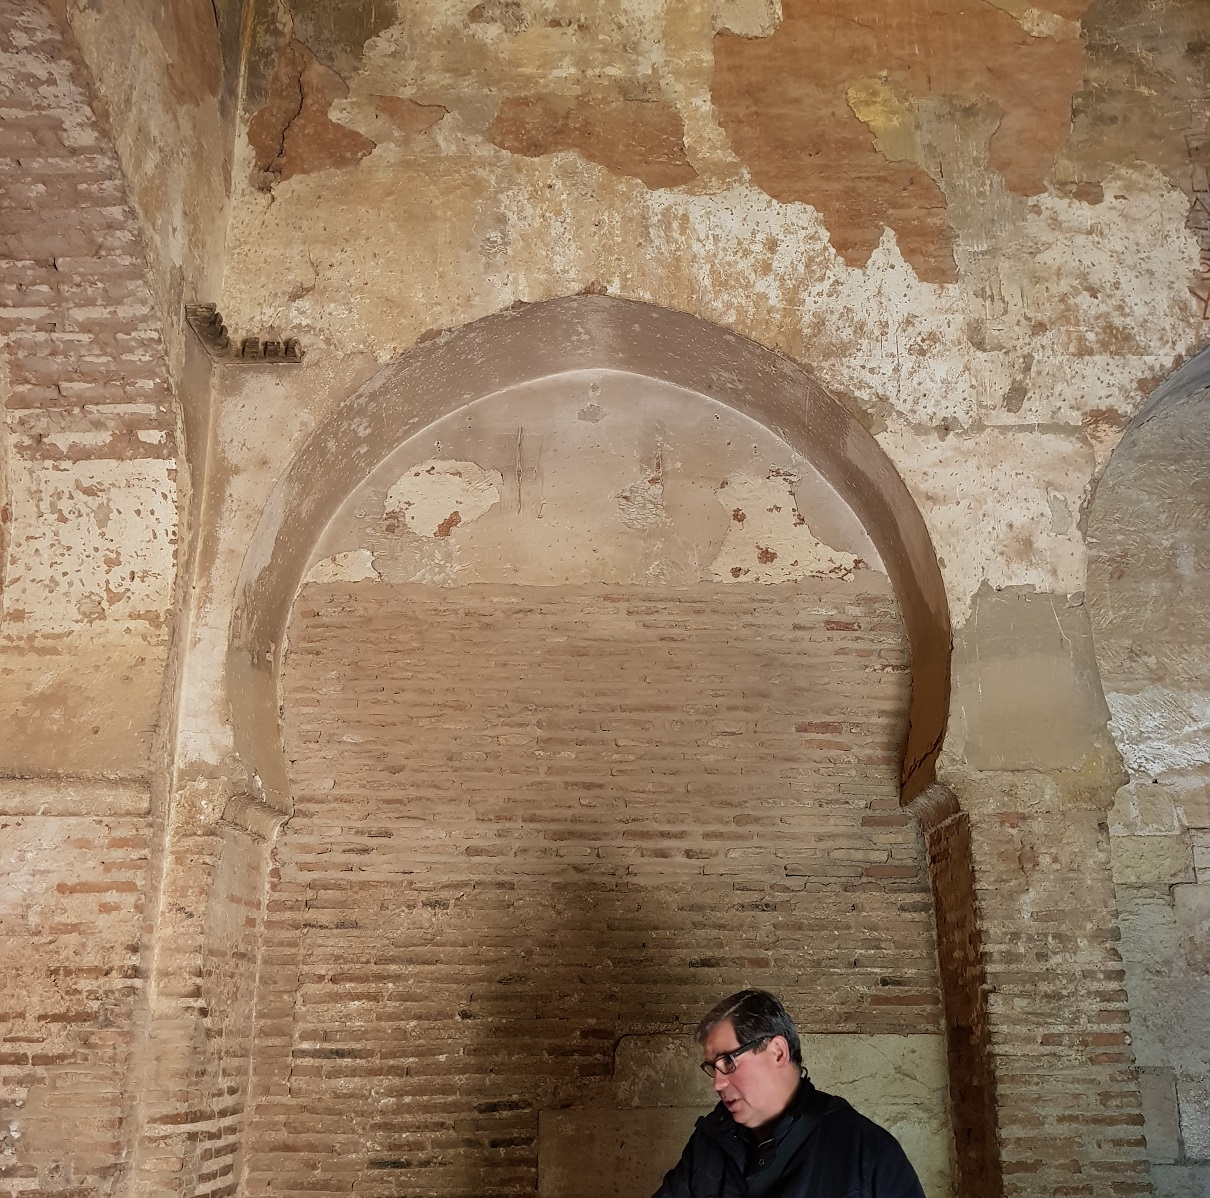arco-herradura: (212, 274, 987, 861)
